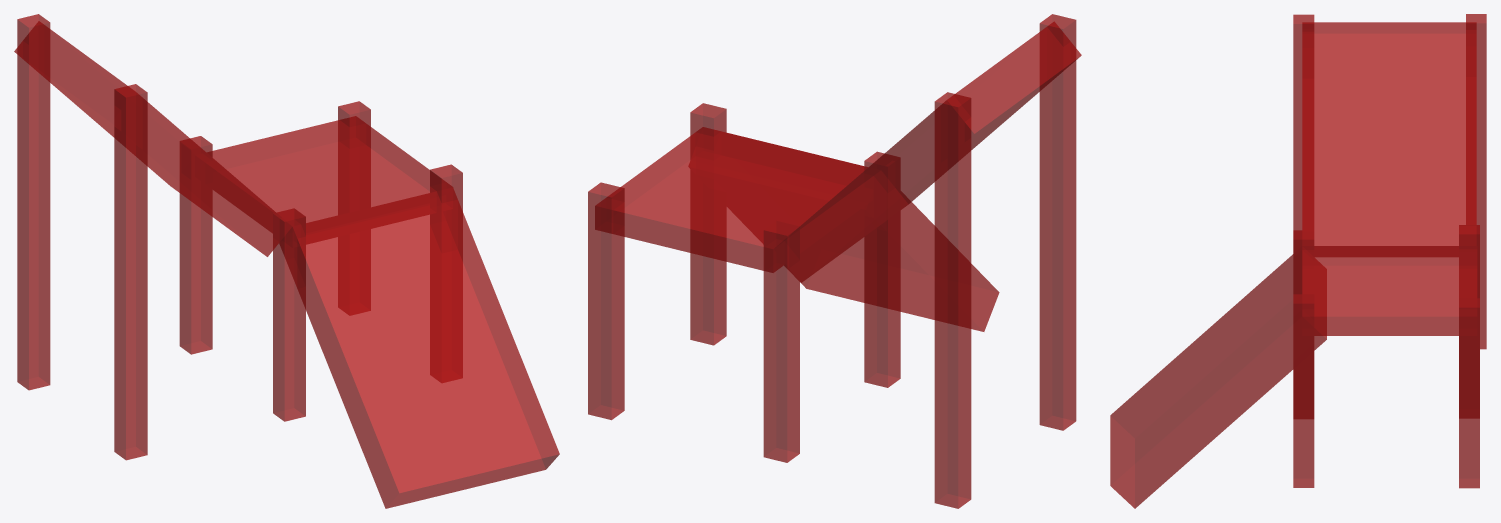
File: SM_Bld_House_Stairs_01_Collision.fbx
The picture shows the model from 3 angles, left to right: view 1: azimuth 30°, elevation 25°; view 2: azimuth 150°, elevation 25°; view 3: azimuth 270°, elevation 25°; orthographic projection. The views are drawn at different scales.
Visible parts, largest first — view 1: SM_Bld_House_Stairs_01_Collision; view 2: SM_Bld_House_Stairs_01_Collision; view 3: SM_Bld_House_Stairs_01_Collision.
Boxes of the visible parts, x1,y1,x2,y2 form: SM_Bld_House_Stairs_01_Collision: [14, 14, 559, 508]; SM_Bld_House_Stairs_01_Collision: [588, 14, 1081, 508]; SM_Bld_House_Stairs_01_Collision: [1110, 14, 1486, 508].
Size of the model in its own units: 261 by 279 by 273.
